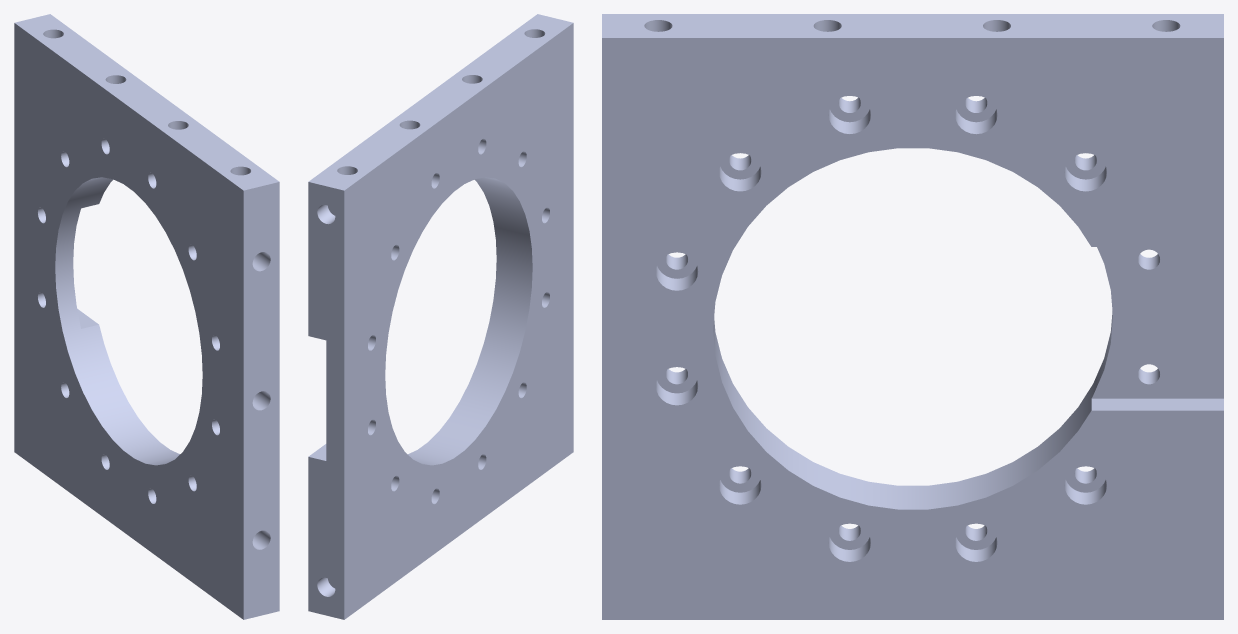
The model's file is Right.dae.
The picture shows the model from 3 angles, left to right: view 1: azimuth 30°, elevation 25°; view 2: azimuth 150°, elevation 25°; view 3: azimuth 270°, elevation 25°; orthographic projection. The views are drawn at different scales.
Parts seen in each view (by area): view 1: Actor0; view 2: Actor0; view 3: Actor0.
Part boxes in pixels (x1,y1,x2,y2): Actor0: [14, 14, 279, 619]; Actor0: [308, 14, 573, 619]; Actor0: [602, 14, 1223, 619].
Size of the model in its own units: 0.0127 by 0.1446 by 0.14.
